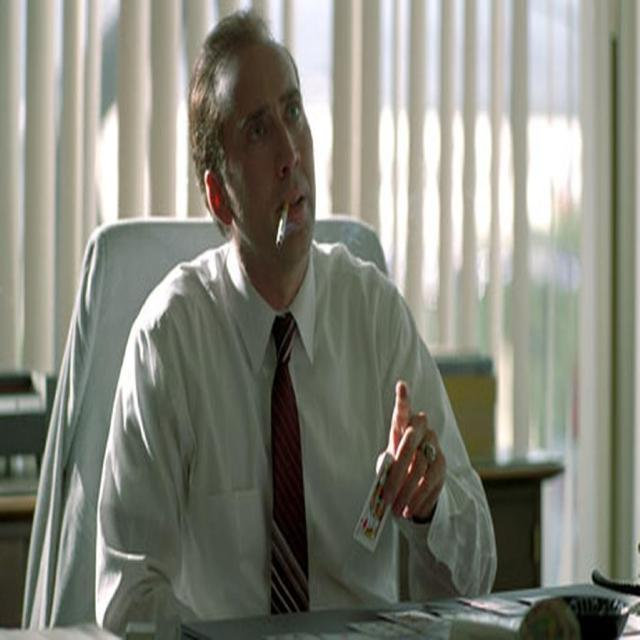smoking: (178, 31, 326, 267)
